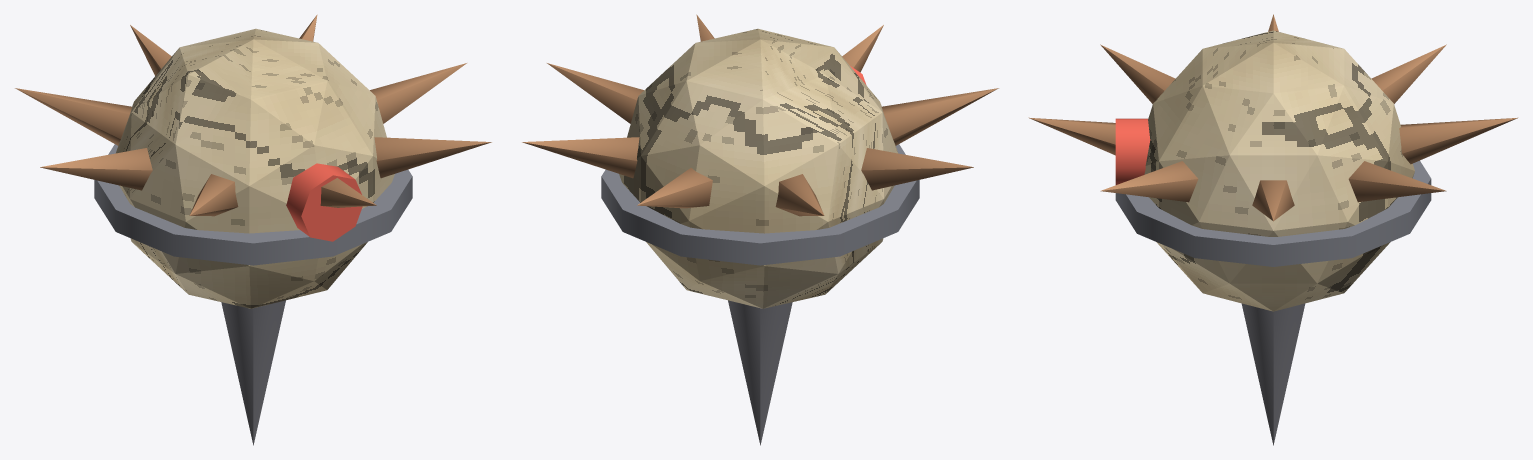
File: warden.gltf
3 renders of one model, left to right at view 1: azimuth 30°, elevation 25°; view 2: azimuth 150°, elevation 25°; view 3: azimuth 270°, elevation 25°, orthographic.
Visible parts, largest first — view 1: warden_body, warden_spikes; view 2: warden_body, warden_spikes; view 3: warden_body, warden_spikes.
Part boxes in pixels (left/top/right/bottom): warden_body: left=116, top=28, right=394, bottom=308; warden_spikes: left=15, top=14, right=491, bottom=445; warden_body: left=619, top=28, right=897, bottom=308; warden_spikes: left=522, top=14, right=998, bottom=445; warden_body: left=1144, top=30, right=1414, bottom=311; warden_spikes: left=1028, top=14, right=1518, bottom=445.
Bounding box in the file's own units: 2.43 × 2.2 × 2.43.
2 materials, 1 textured.
